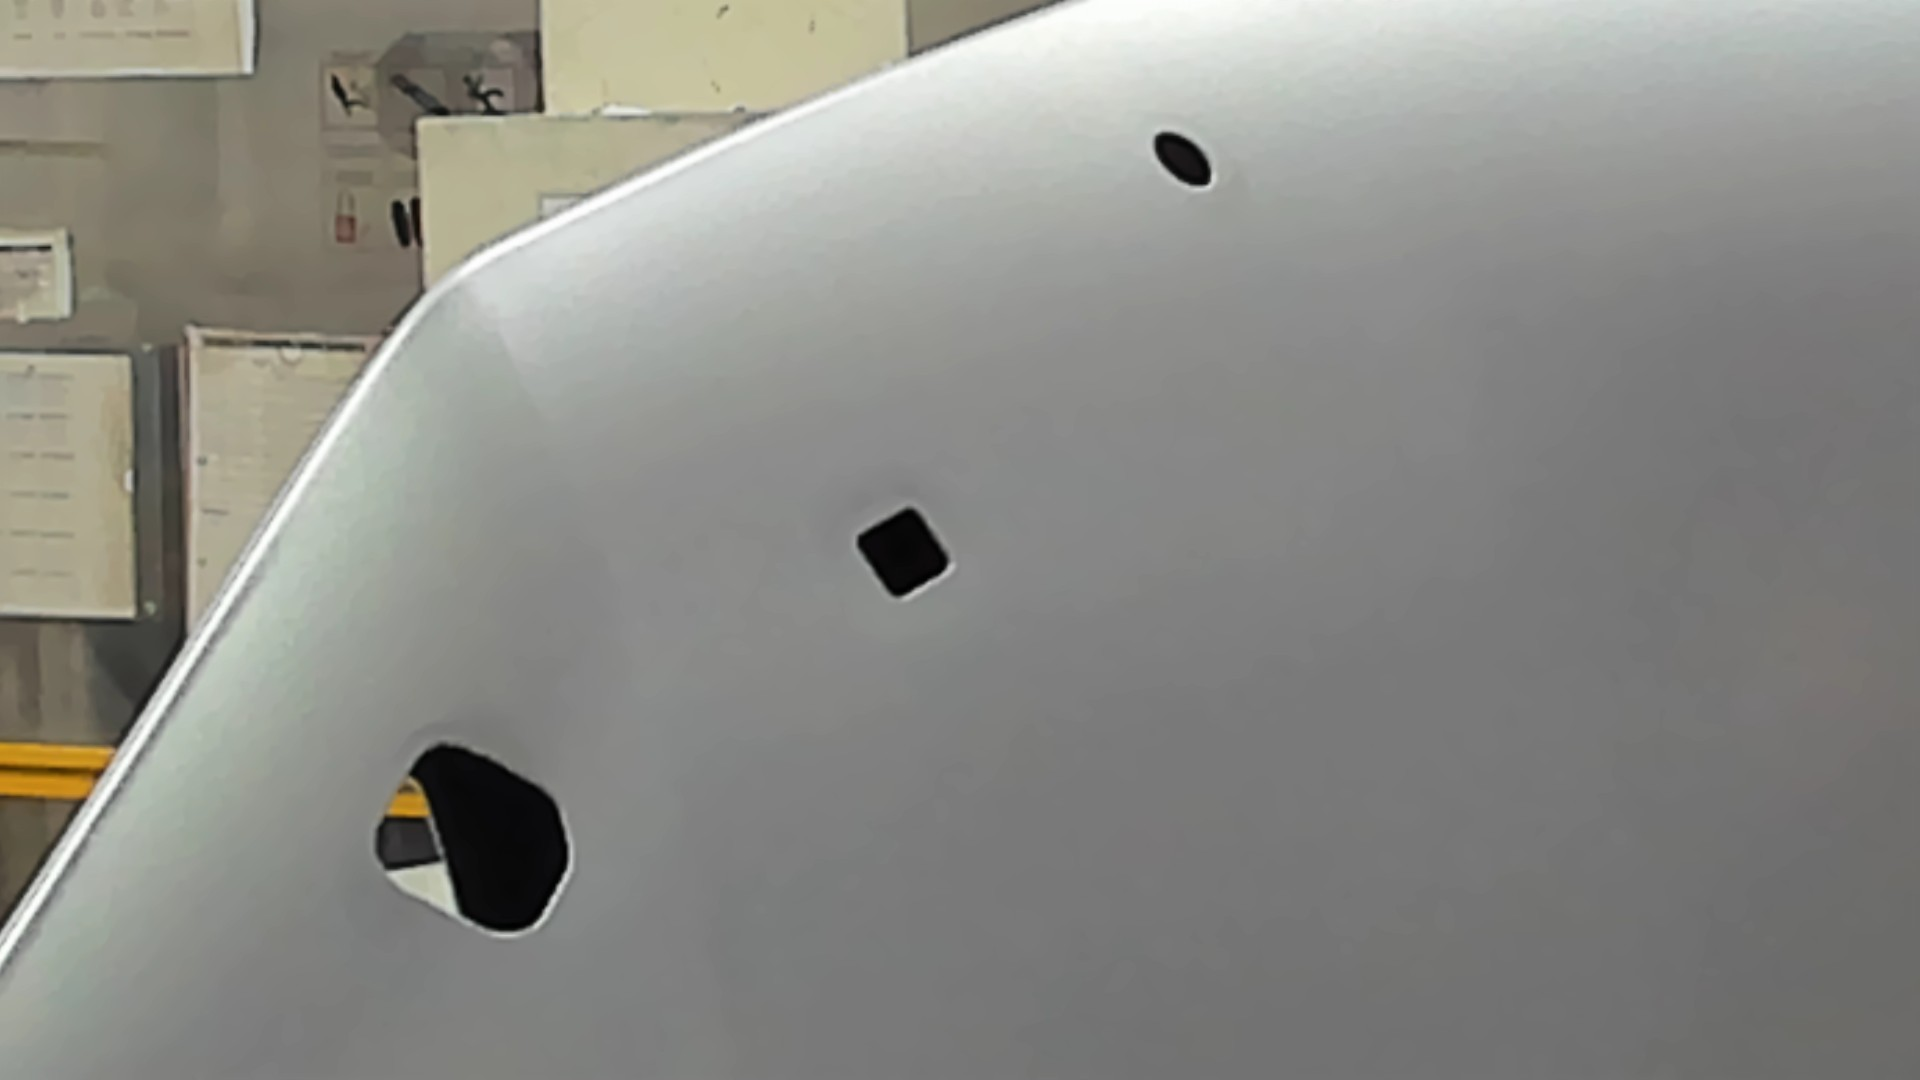chico: (1149, 127, 1218, 193)
grande: (369, 737, 578, 942)
mediano: (853, 501, 959, 603)
